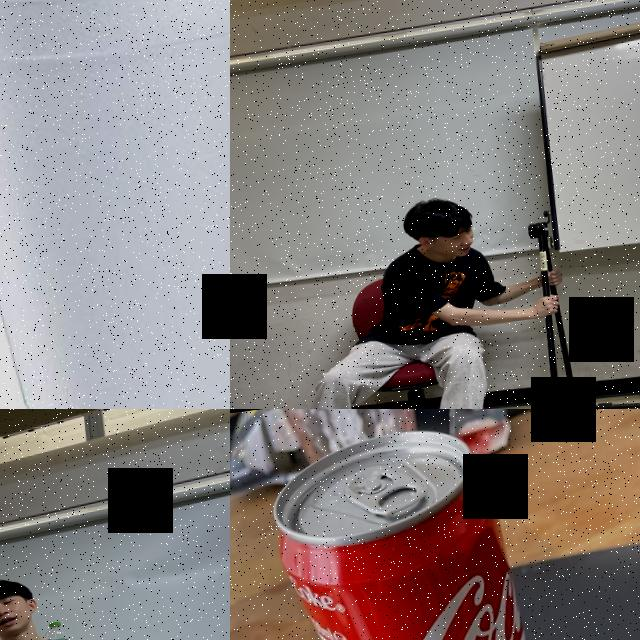bottle: (42, 619, 74, 640)
can: (269, 422, 578, 640)
cup: (0, 0, 230, 409)
